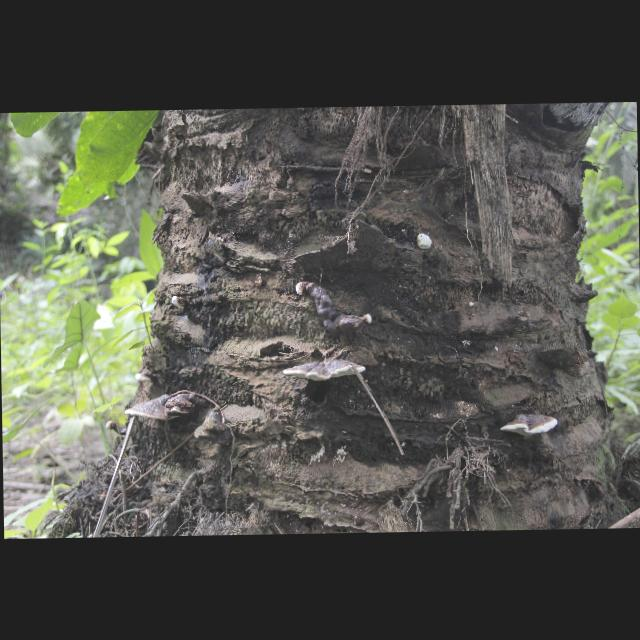ganoderma: (309, 281, 364, 338), (284, 359, 367, 383), (125, 395, 178, 423), (500, 413, 558, 438), (165, 394, 205, 416), (135, 372, 159, 382)
primordium: (418, 234, 434, 251), (172, 296, 187, 311), (297, 282, 309, 297), (105, 420, 117, 431), (364, 315, 373, 326), (470, 303, 475, 309)
